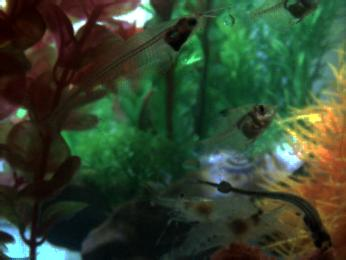X-ray fish: (196, 101, 279, 156), (238, 1, 323, 31)
glassfish: (28, 11, 206, 149), (189, 176, 337, 254)
siberian prawn: (169, 204, 289, 256), (143, 189, 263, 222)
